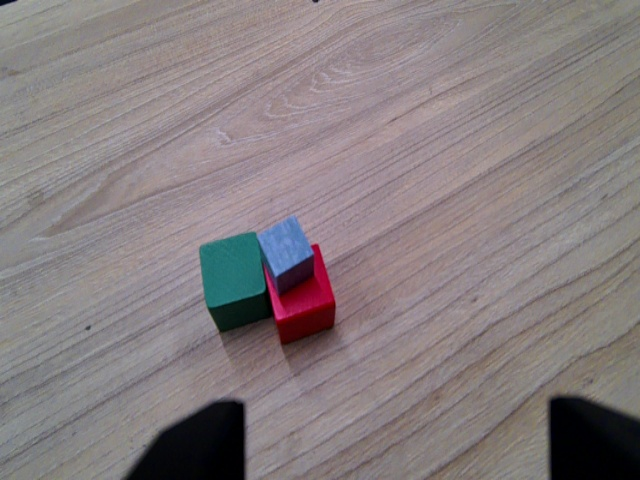stone: (252, 212, 318, 299)
